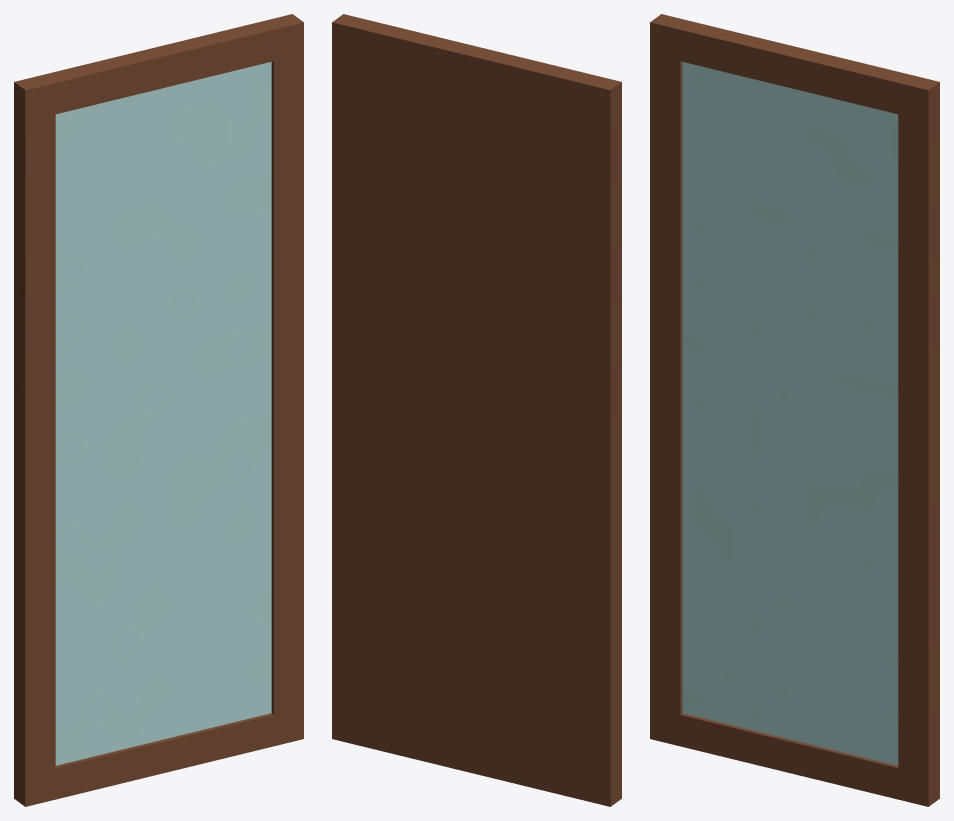
File: Mirror_01_02.fbx
3 renders of one model, left to right at view 1: azimuth 30°, elevation 25°; view 2: azimuth 150°, elevation 25°; view 3: azimuth 330°, elevation 25°, orthographic.
Visible parts, largest first — view 1: Mirror_01_02; view 2: Mirror_01_02; view 3: Mirror_01_02.
Boxes of the visible parts, <box> form: Mirror_01_02: <box>14,14,303,806</box>; Mirror_01_02: <box>332,14,621,806</box>; Mirror_01_02: <box>650,14,939,806</box>.
Bounding box in the file's own units: 0.5642 × 1.39 × 0.0401.
